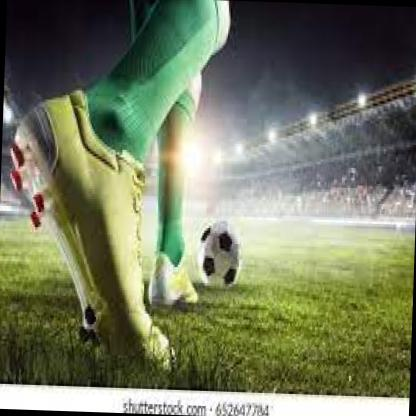ball: (196, 218, 244, 290)
